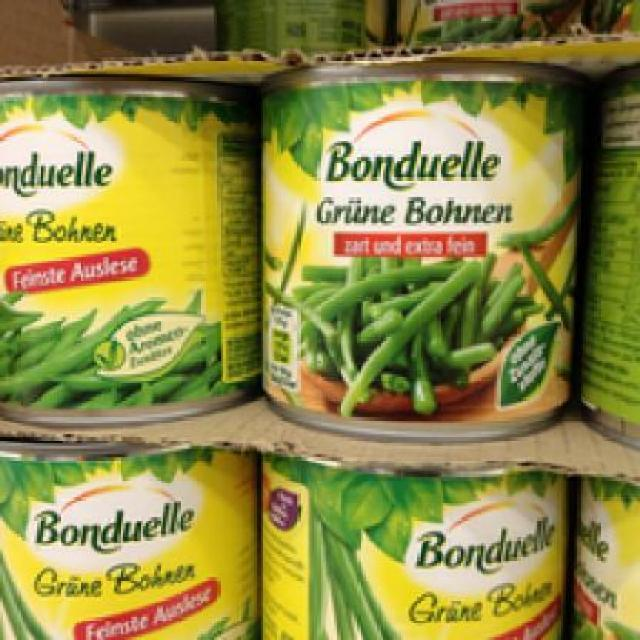Beans: (259, 72, 572, 434), (0, 80, 240, 420), (254, 448, 563, 638), (0, 437, 243, 637)
